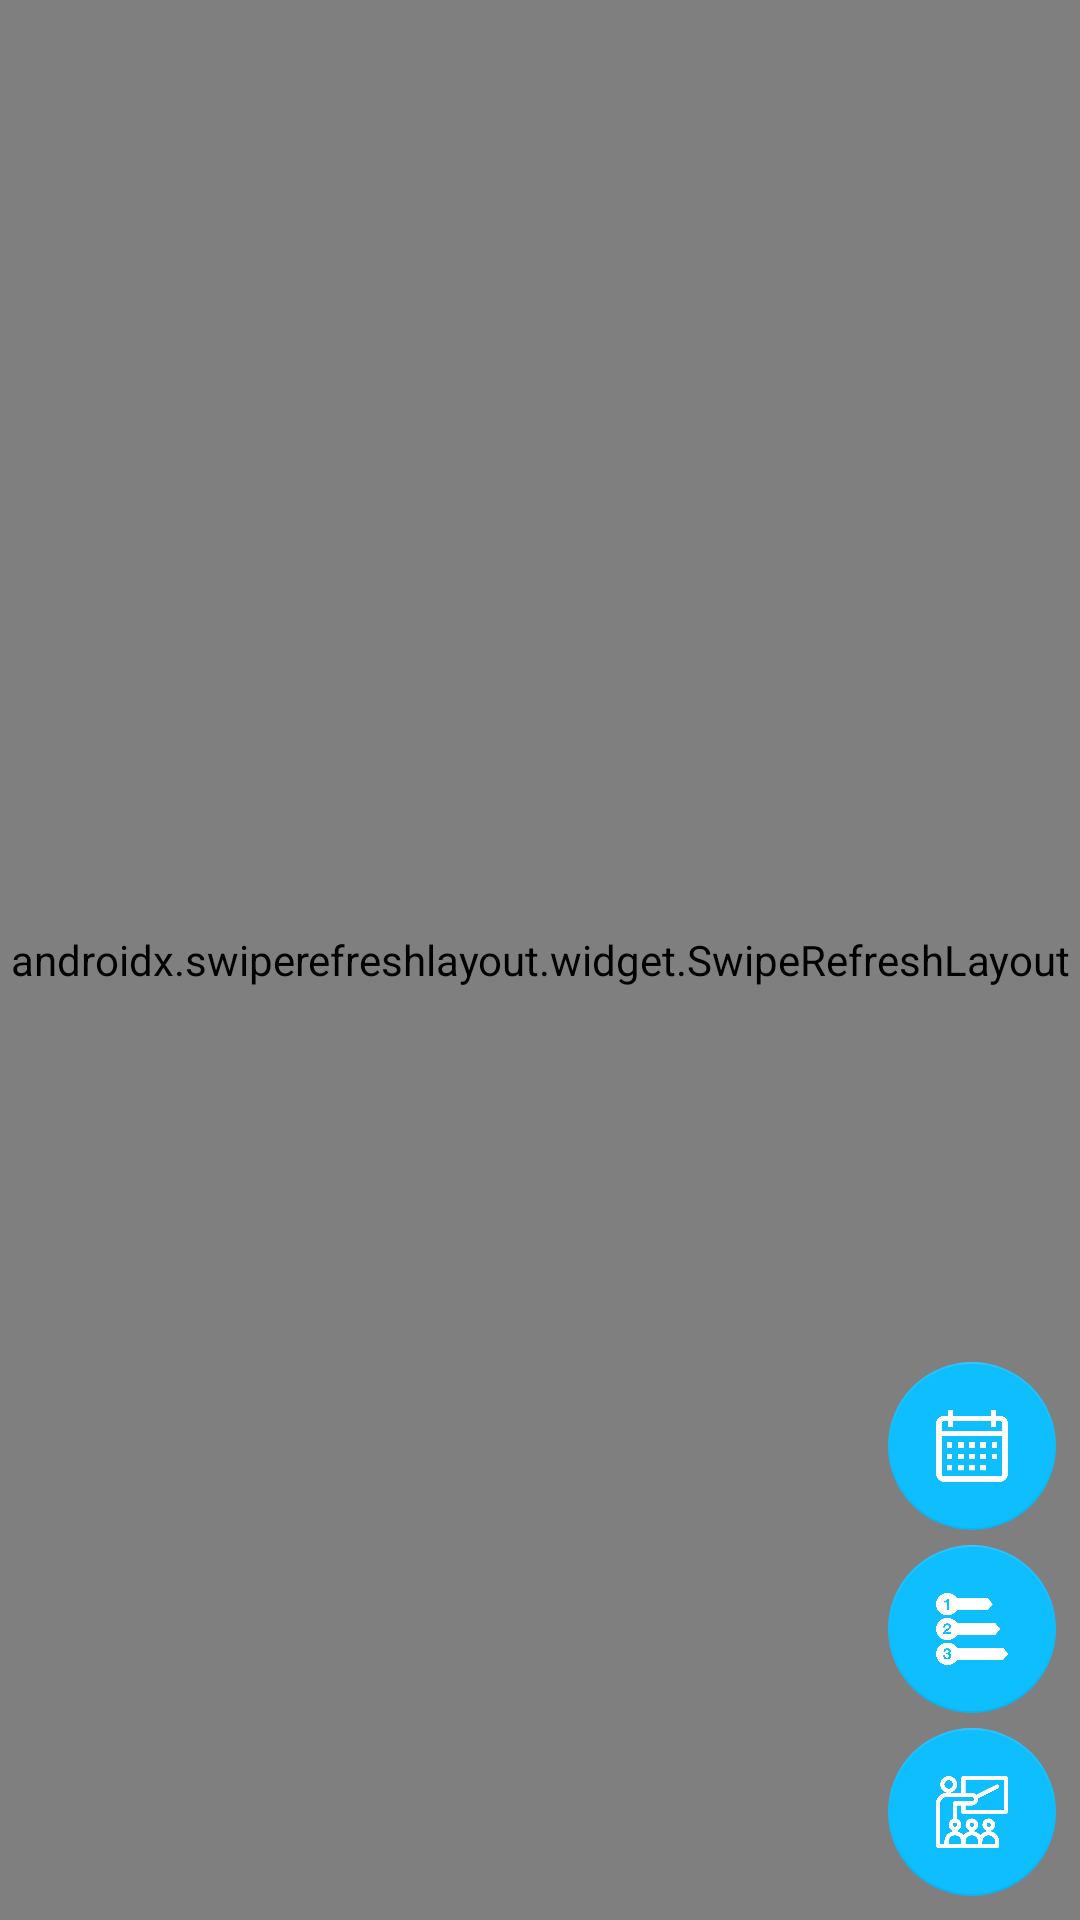

Point at icon controls on the screen. Image size 1080px×1920px, points as (x=x, y=y).
calendar: (x=972, y=1446)
classroom: (x=972, y=1812)
priority: (x=972, y=1629)
